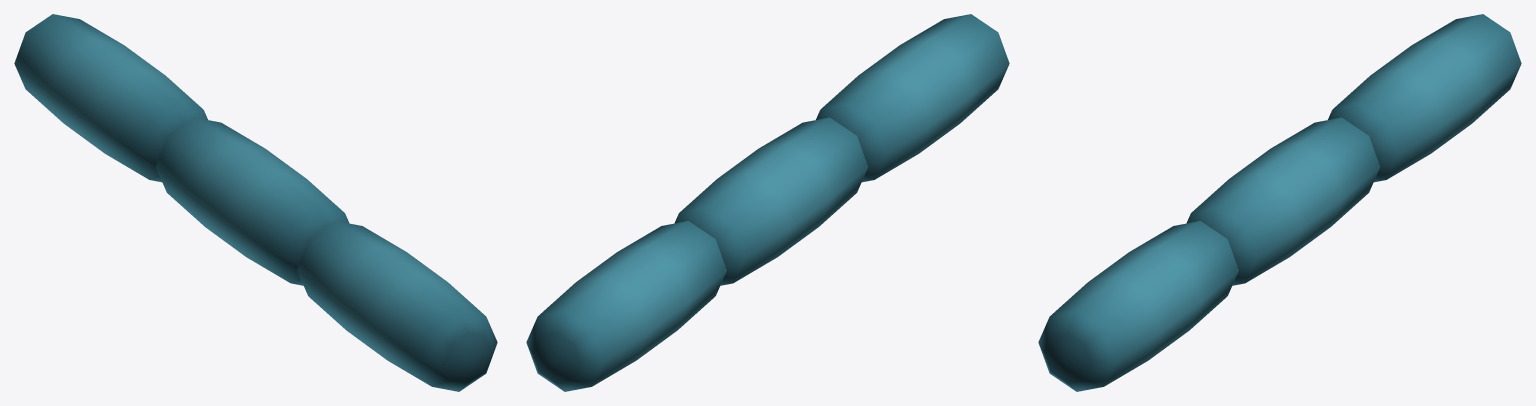
Rendered from microscopic-bacteria-segmented-bacterium_v1.glb.
3 views of the same model, side by side, from view 1: azimuth 30°, elevation 25°; view 2: azimuth 150°, elevation 25°; view 3: azimuth 330°, elevation 25° (orthographic).
Parts seen in each view (by area): view 1: Segmented Bacterium_v1; view 2: Segmented Bacterium_v1; view 3: Segmented Bacterium_v1.
Boxes of the visible parts, x1,y1,x2,y2 form: Segmented Bacterium_v1: (14,14,497,391); Segmented Bacterium_v1: (526,14,1009,391); Segmented Bacterium_v1: (1038,14,1521,391).
Size of the model in its own units: 0.0916 by 0.0916 by 0.8.
